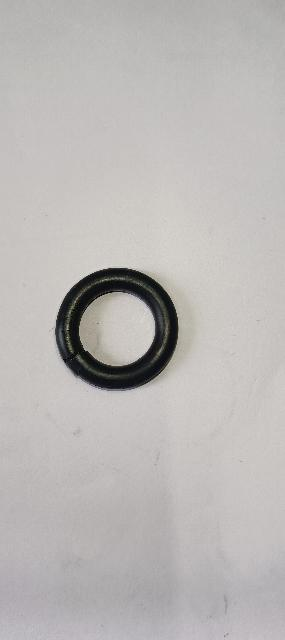crack: (63, 349, 88, 364)
scratch: (59, 328, 80, 332), (76, 368, 80, 376)
